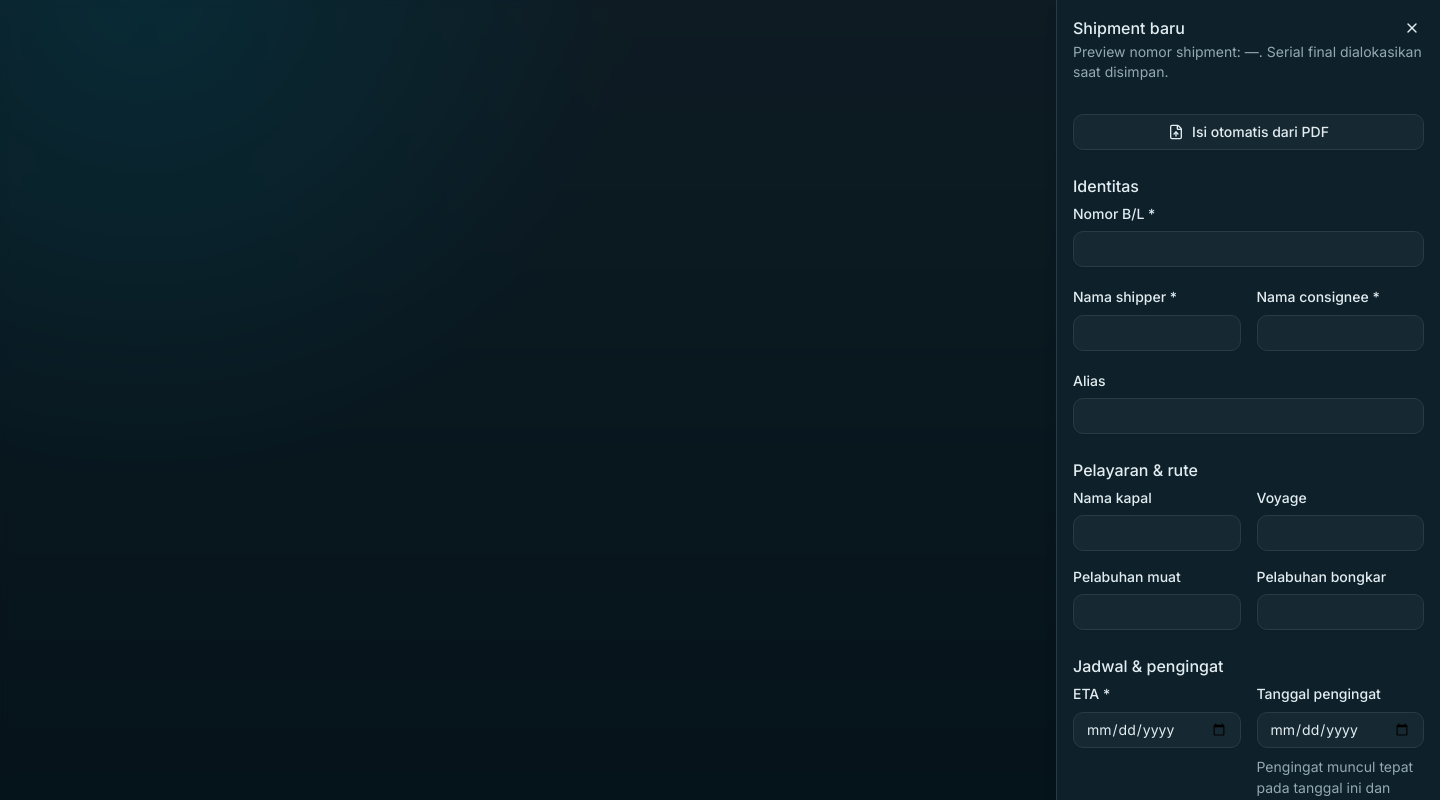
ShipmentForm › recovers from a thrown submit without closing
This screenshot has width=1440, height=800.
In the field labelled "Nomor B/L *": [1248, 249] box [1073,231,1424,267], type "BL-1"
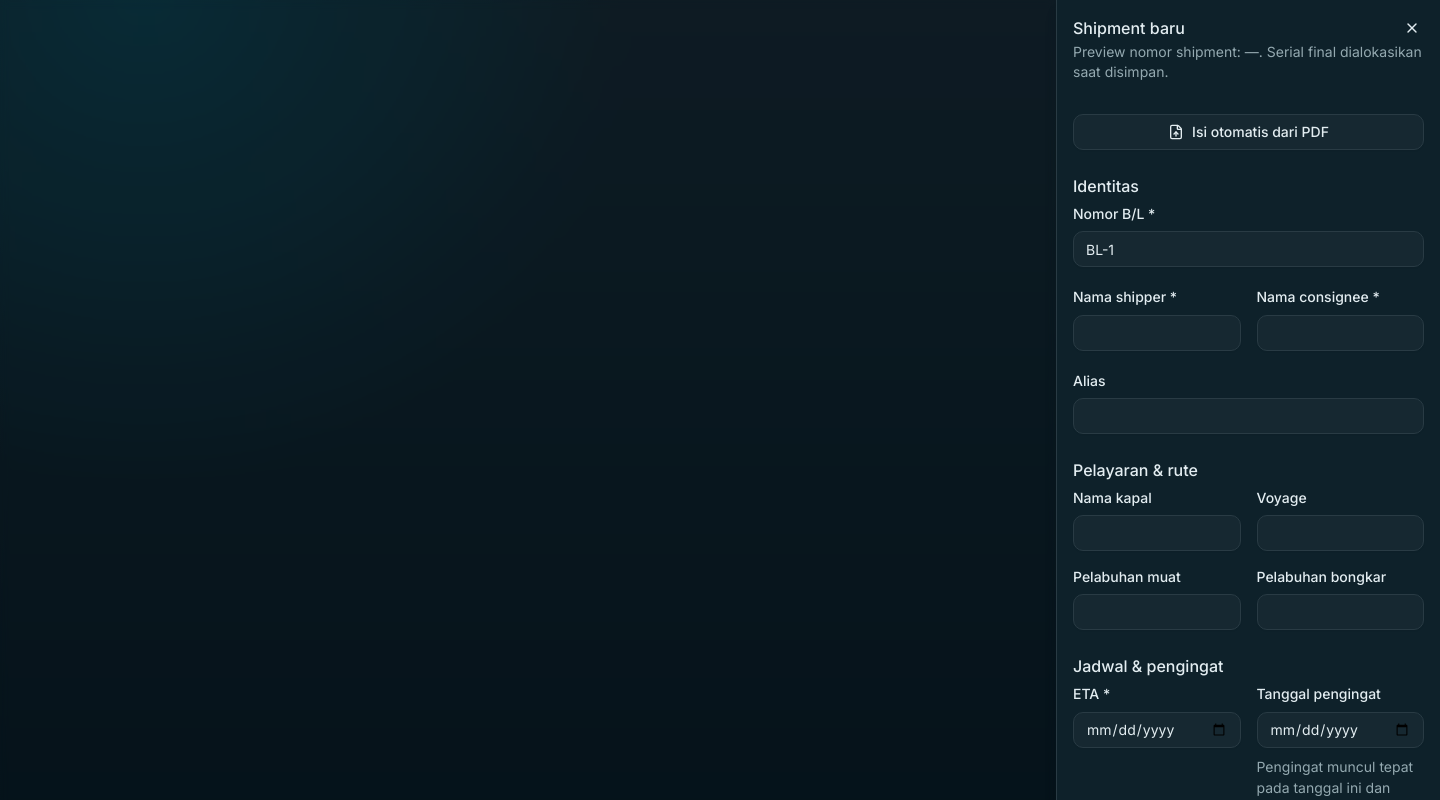
In the field labelled "Nama shipper *": [1157, 332] box [1073,314,1240,350], type "SHIPPER"
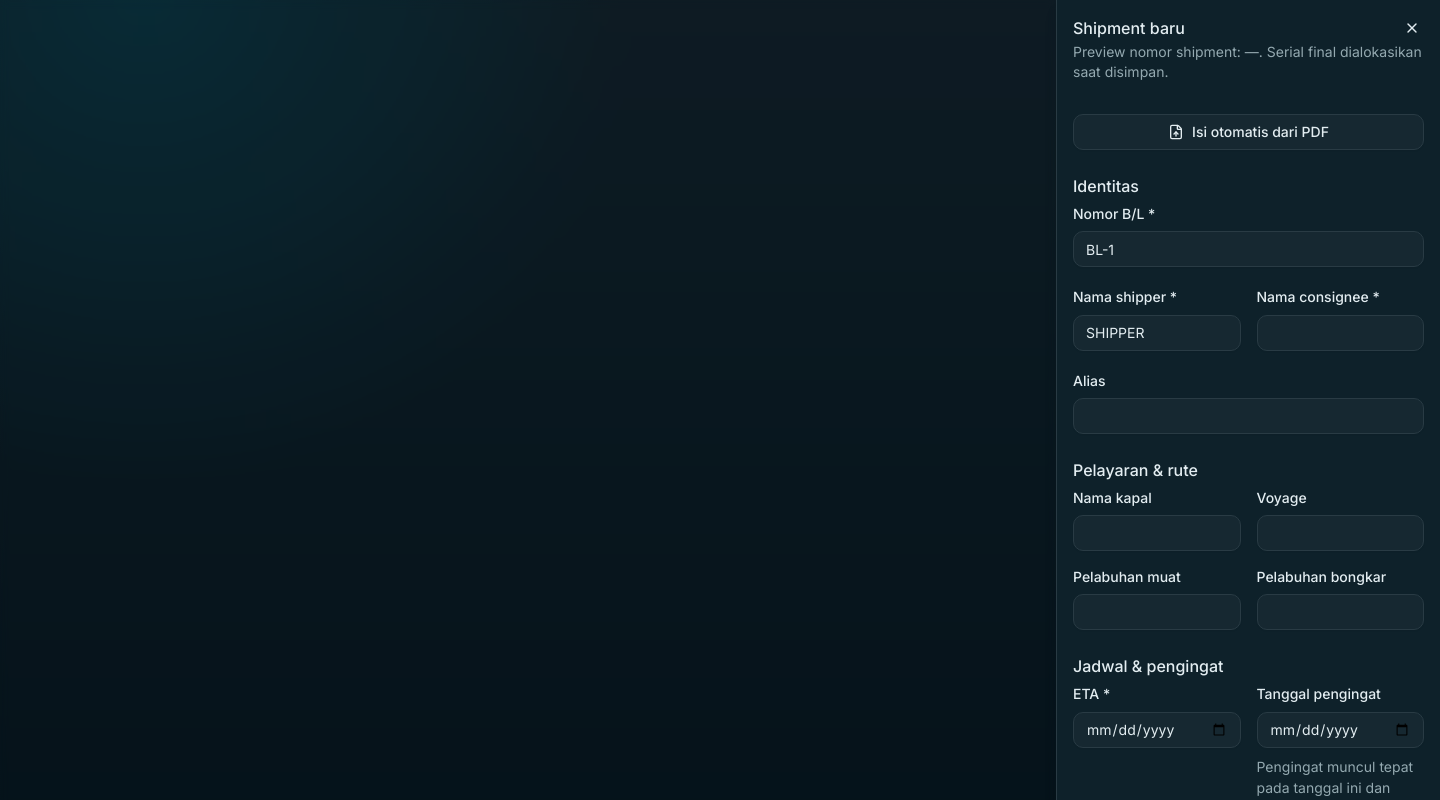
In the field labelled "Nama consignee *": [1340, 332] box [1256,314,1424,350], type "CONSIGNEE"
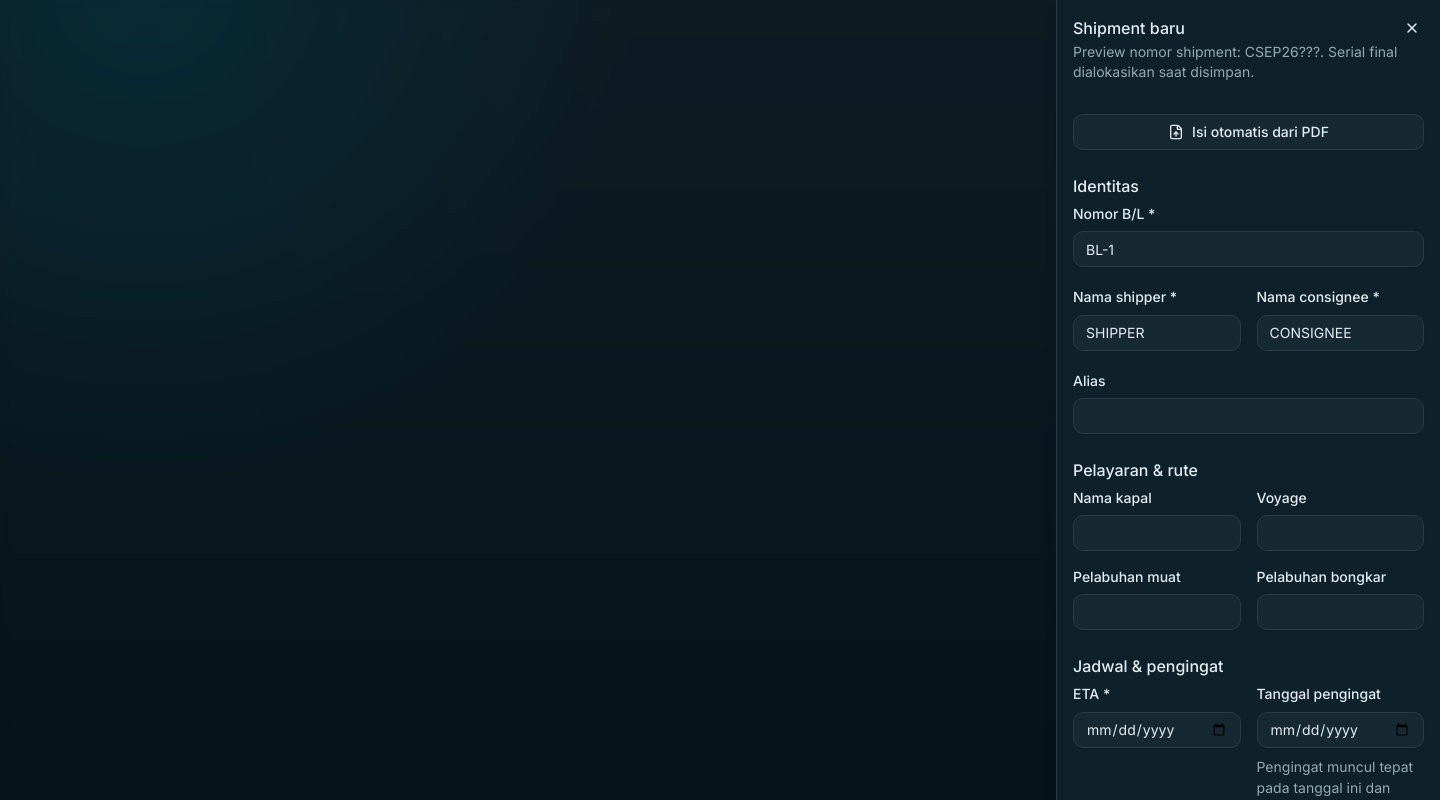
In the date field labelled "ETA *": [1157, 730] box [1073,712,1240,748], type "2026-08-28"
(page scrolled)
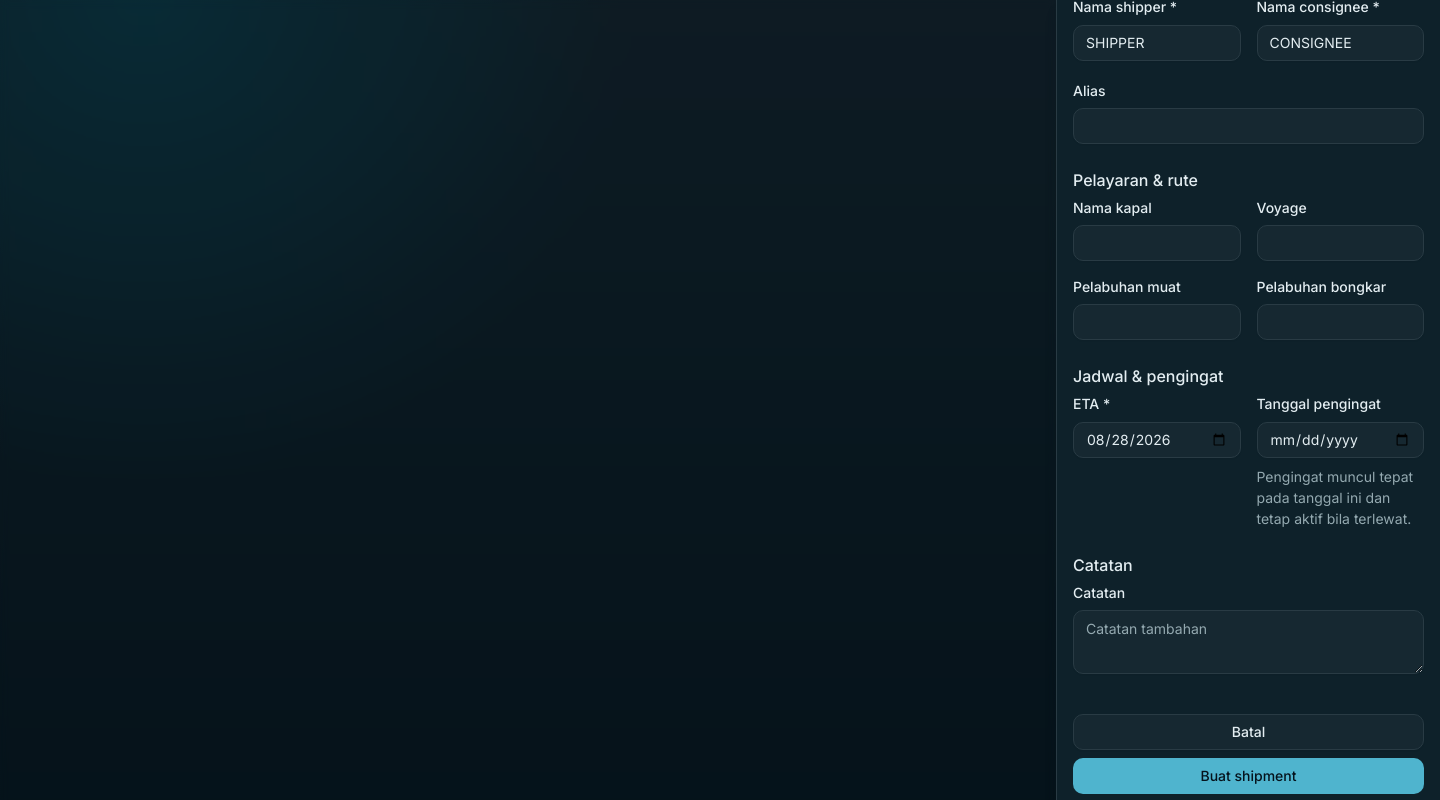
Click the button "Buat shipment": [1248, 776] box [1073,758,1424,794]
(page scrolled)
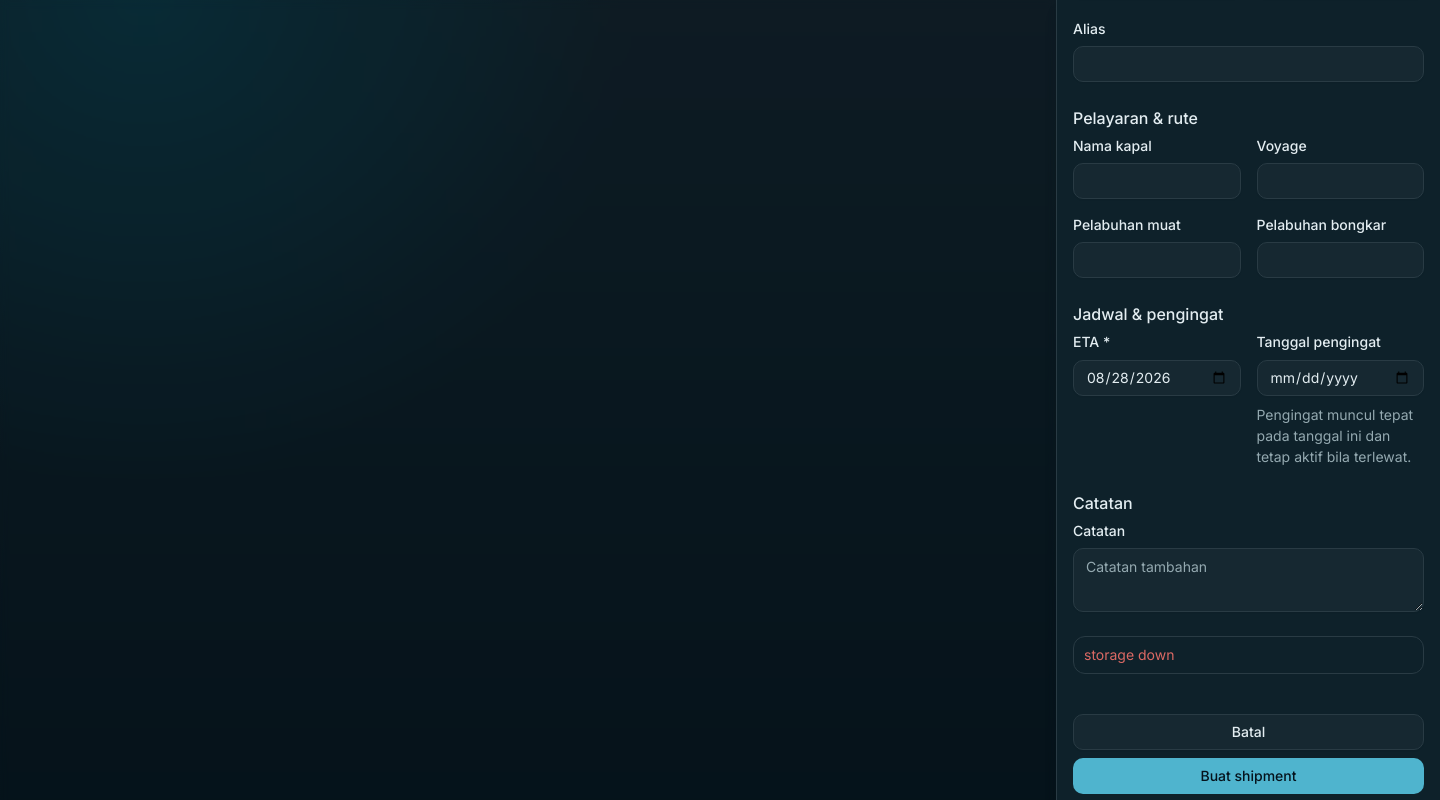
Result: the text "storage down" is shown at [1084,646,1174,663]
